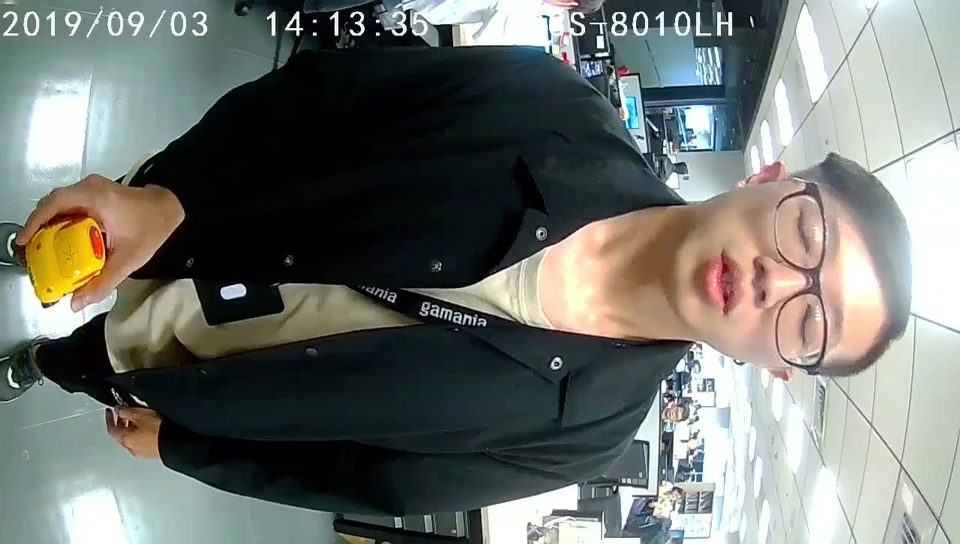car: (27, 211, 104, 307)
